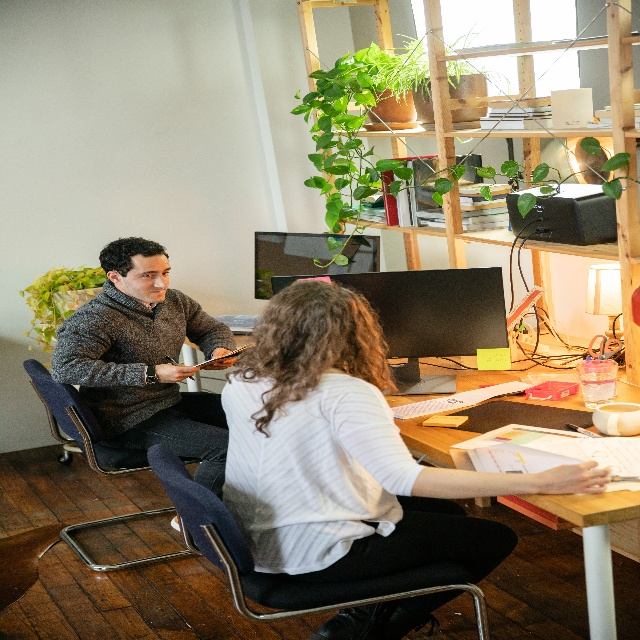Sin_guantes: (540, 467, 613, 491), (157, 359, 199, 388)
